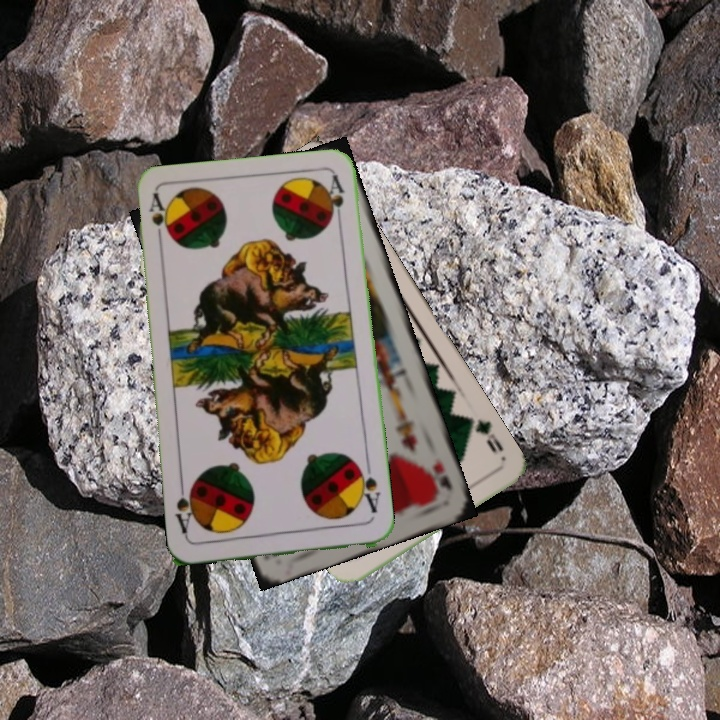G9: (464, 413, 506, 458)
HK: (428, 454, 455, 493)
SA: (353, 461, 383, 515), (144, 191, 171, 250)
